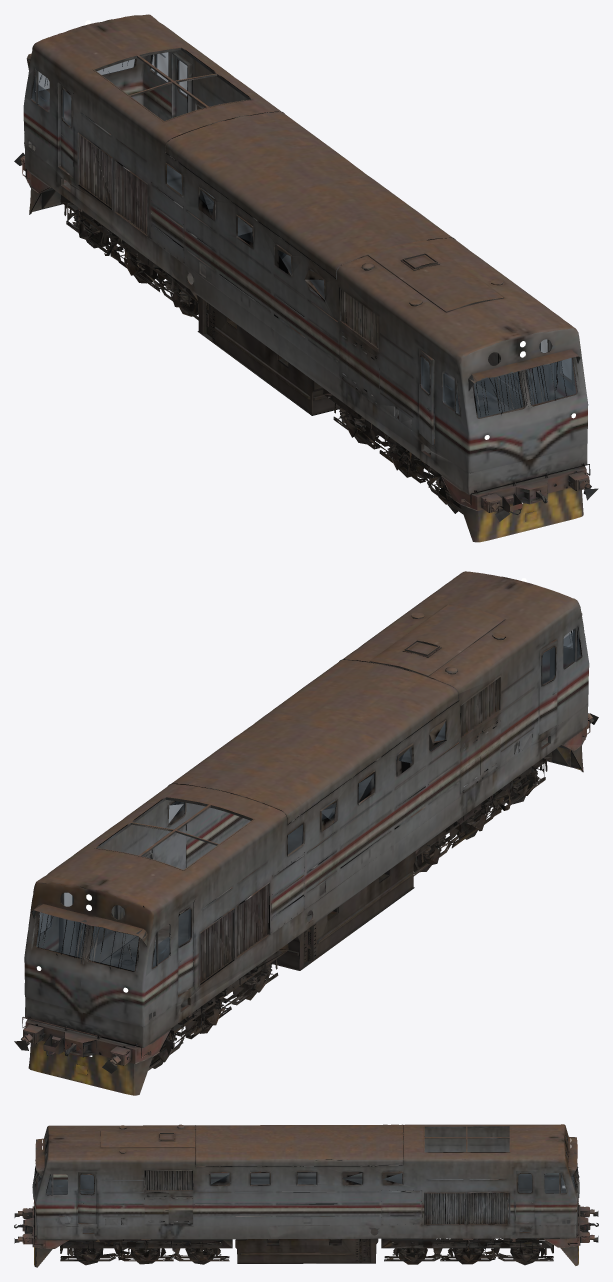
File: engine.glb
3 renders of one model, top to bottom at view 1: azimuth 30°, elevation 25°; view 2: azimuth 150°, elevation 25°; view 3: azimuth 270°, elevation 25°, orthographic. The views are drawn at different scales.
Parts seen in each view (by area): view 1: engine_body, engine_glass; view 2: engine_body, engine_glass; view 3: engine_body, engine_glass.
Part boxes in pixels (x1=…): engine_body: x1=14, y1=14, x2=598, y2=542; engine_glass: x1=32, y1=52, x2=576, y2=417; engine_body: x1=14, y1=571, x2=598, y2=1095; engine_glass: x1=36, y1=630, x2=580, y2=970; engine_body: x1=14, y1=1124, x2=598, y2=1267; engine_glass: x1=37, y1=1172, x2=574, y2=1194.
Size of the model in its own units: 3.15 by 4.71 by 20.87.
3 materials, 1 textured.
